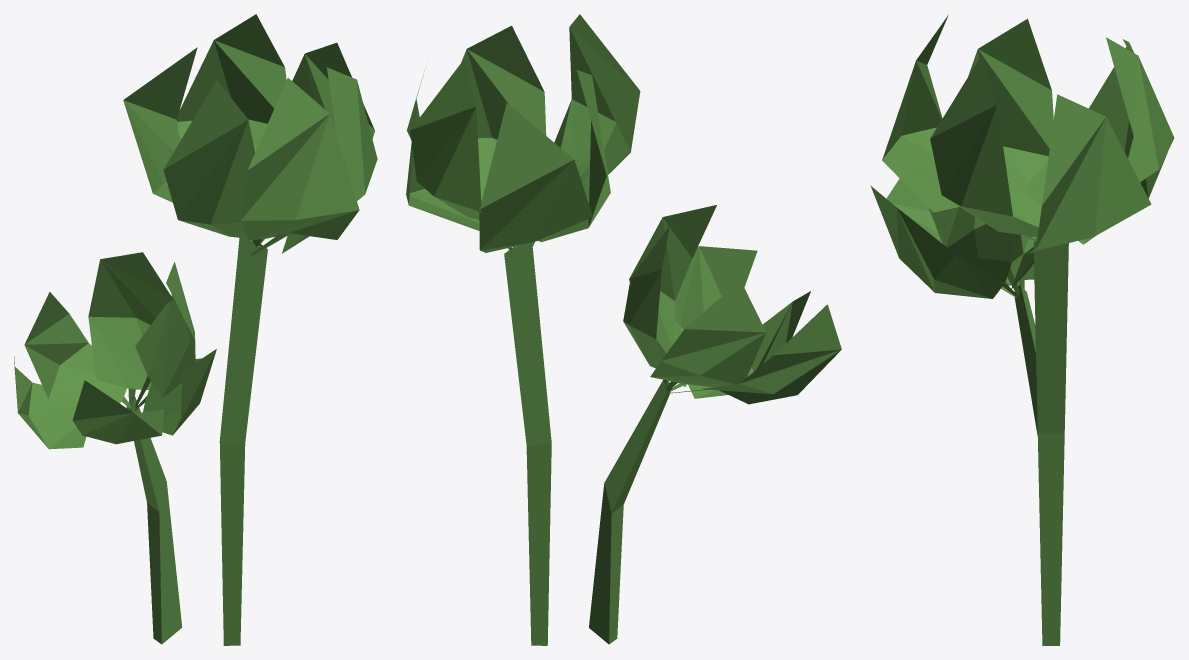
Rendered from Potato_1.fbx.
3 views of the same model, side by side, from view 1: azimuth 30°, elevation 25°; view 2: azimuth 150°, elevation 25°; view 3: azimuth 270°, elevation 25° (orthographic). The views are drawn at different scales.
Visible parts, largest first — view 1: Potato_1; view 2: Potato_1; view 3: Potato_1.
Part boxes in pixels (<box>): Potato_1: <box>14,14,377,645</box>; Potato_1: <box>406,14,841,645</box>; Potato_1: <box>870,15,1174,645</box>.
Bounding box in the file's own units: 25.87 × 37.19 × 16.16.
